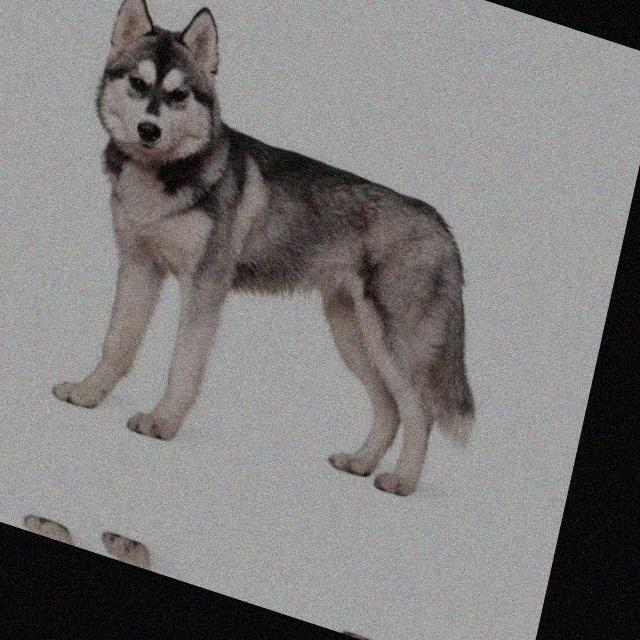dog: (17, 0, 556, 554), (0, 479, 445, 640), (119, 0, 575, 90)
